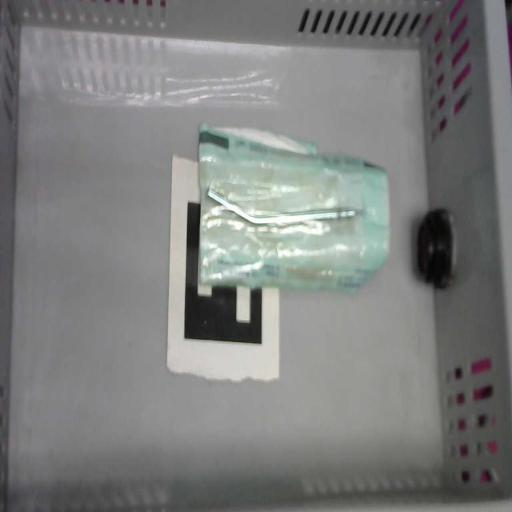QR: (183, 201, 263, 344)
triple_syringe: (198, 124, 389, 294)
